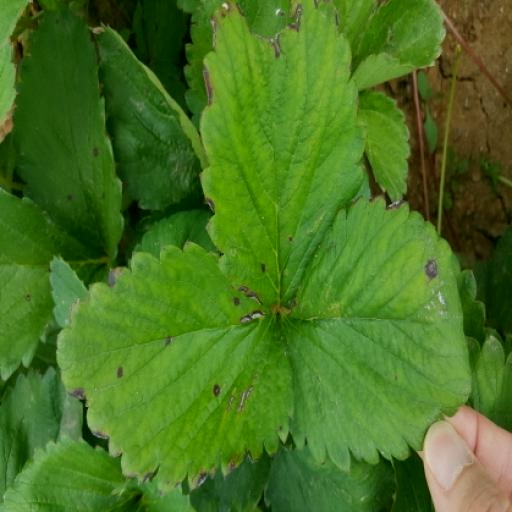Leaf Spot: (216, 14, 457, 272), (40, 38, 235, 319), (143, 199, 314, 511), (386, 251, 502, 504), (404, 127, 511, 325)
